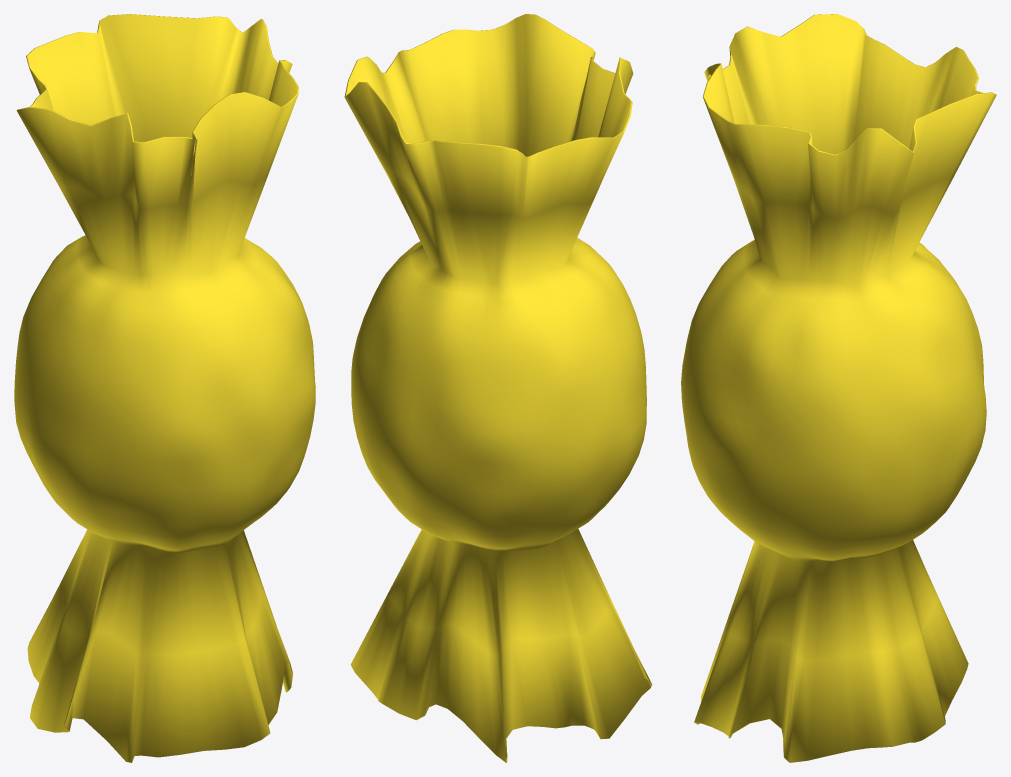
File: Candy.fbx
The picture shows the model from 3 angles, left to right: view 1: azimuth 30°, elevation 25°; view 2: azimuth 150°, elevation 25°; view 3: azimuth 270°, elevation 25°; orthographic projection. The views are drawn at different scales.
Visible parts, largest first — view 1: Sphere; view 2: Sphere; view 3: Sphere.
Part boxes in pixels (bbox=[...]): Sphere: bbox=[14, 14, 315, 762]; Sphere: bbox=[344, 14, 652, 762]; Sphere: bbox=[681, 14, 996, 762].
Bounding box in the file's own units: 171 × 396 × 171.
